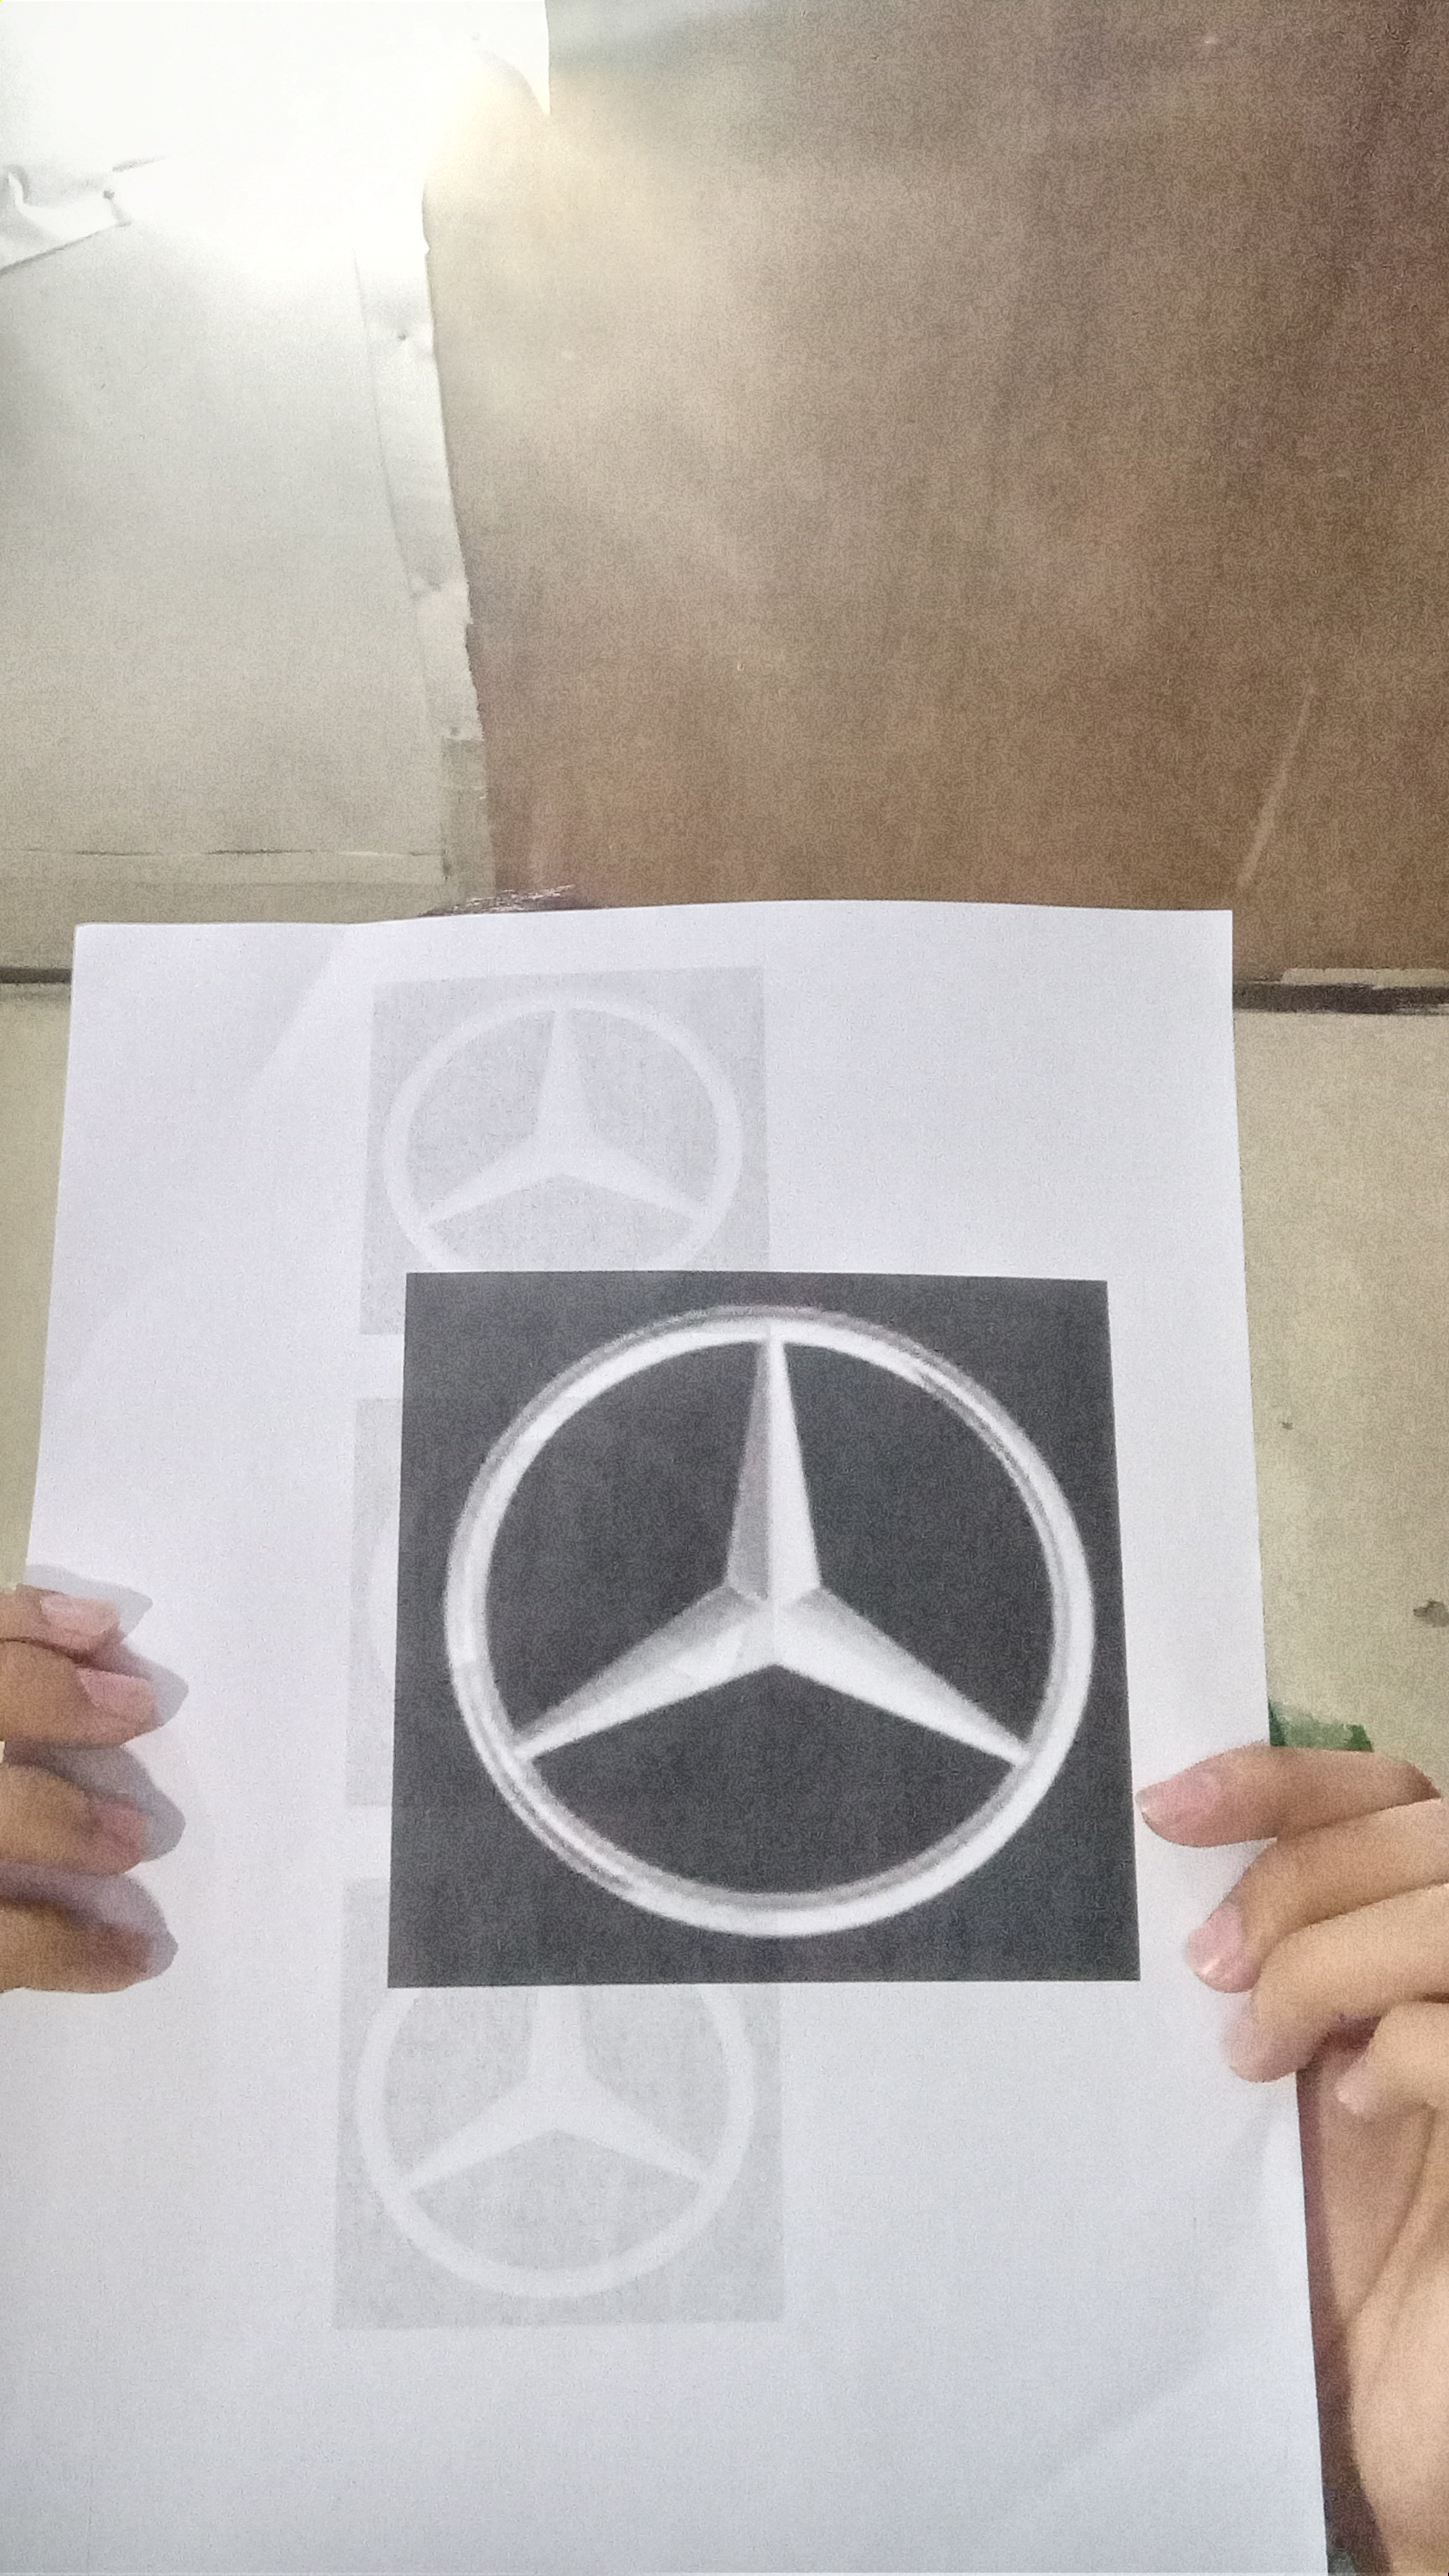Mercedes: (419, 1288, 1120, 1962)
